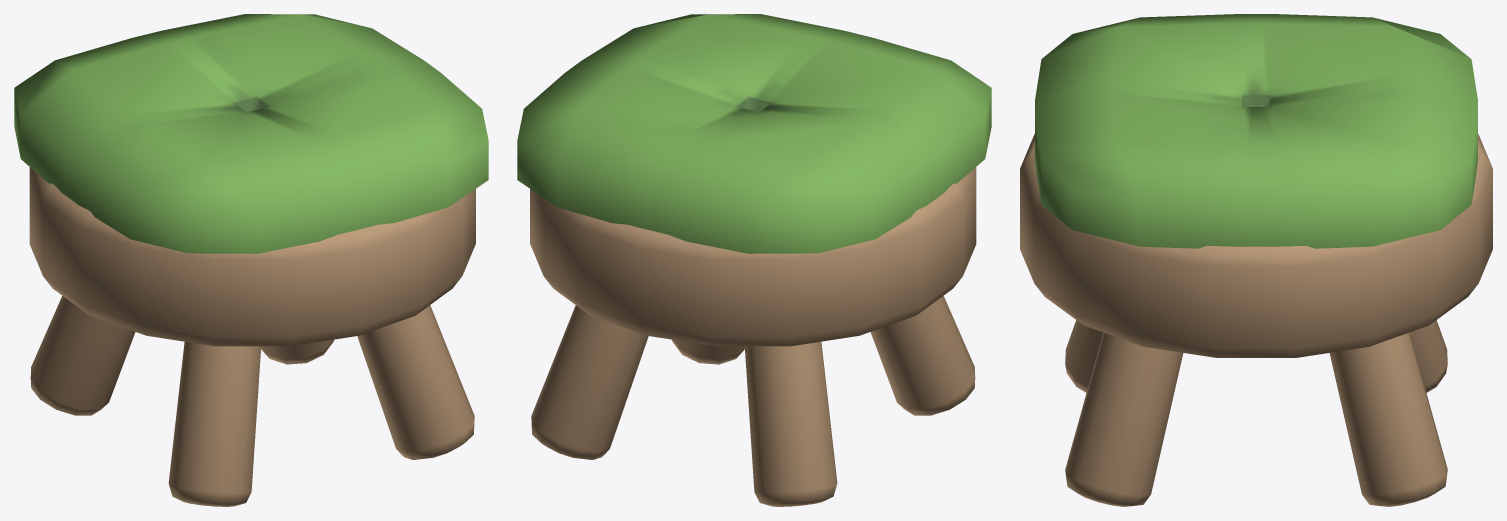
The model's file is chair.fbx.
3 views of the same model, side by side, from view 1: azimuth 30°, elevation 25°; view 2: azimuth 150°, elevation 25°; view 3: azimuth 270°, elevation 25° (orthographic). The views are drawn at different scales.
Visible parts, largest first — view 1: chair; view 2: chair; view 3: chair.
Boxes of the visible parts, bbox=[...] form: chair: bbox=[14, 14, 488, 506]; chair: bbox=[517, 14, 991, 506]; chair: bbox=[1020, 14, 1492, 506].
Size of the model in its own units: 59.78 by 51.35 by 60.71.
